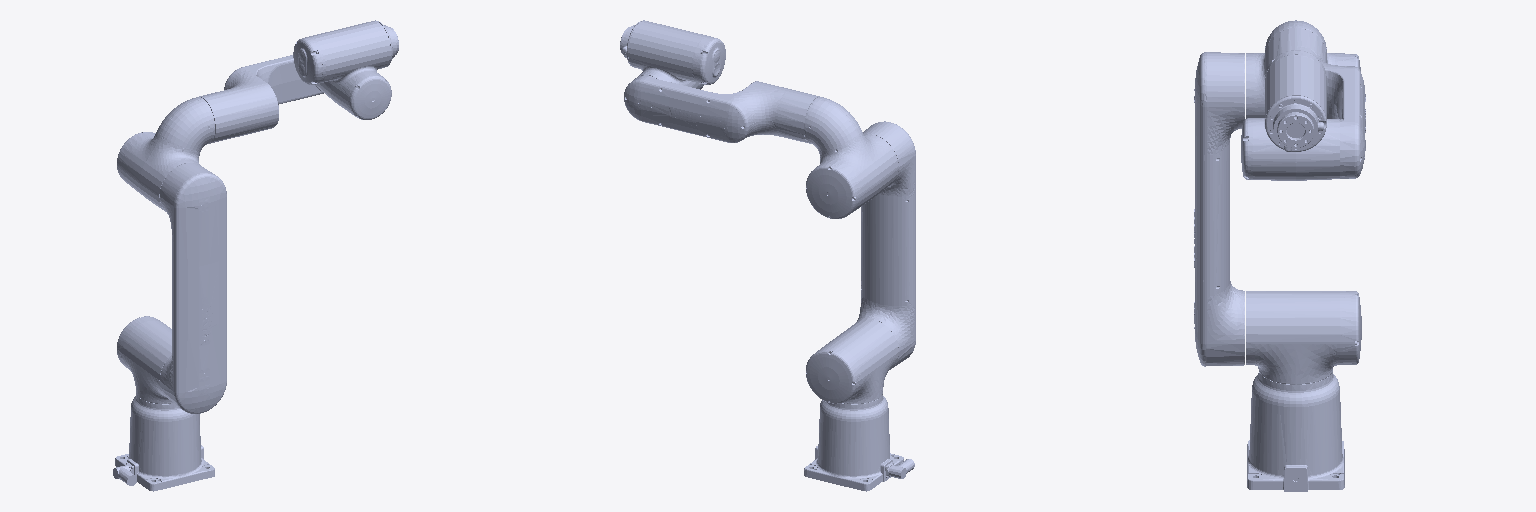
The robot description file, URDF, robot "gofa_description":
<?xml version="1.0" encoding="utf-8"?>
<!-- This URDF was automatically created by SolidWorks to URDF Exporter! Originally created by [author] ([email redacted]) 
     Commit Version: 1.6.0-1-g15f4949  Build Version: 1.6.7594.29634
     For more information, please see http://wiki.ros.org/sw_urdf_exporter -->
<robot
  name="gofa_description">
  <link
    name="base">
    <inertial>
      <origin
        xyz="-0.0012013793465437 -0.000175191786981708 0.0862146007385352"
        rpy="0 0 0" />
      <mass
        value="3.50083457958494" />
      <inertia
        ixx="0.0153015257917955"
        ixy="-6.40155032892694E-05"
        ixz="-0.000276708687772683"
        iyy="0.0159333503953857"
        iyz="-3.98029144780725E-05"
        izz="0.0112162302268266" />
    </inertial>
    <visual>
      <origin
        xyz="0 0 0"
        rpy="0 0 0" />
      <geometry>
        <mesh
          filename="package://gofa_description/meshes/base.STL" />
      </geometry>
      <material
        name="">
        <color
          rgba="0.792156862745098 0.819607843137255 0.933333333333333 1" />
      </material>
    </visual>
    <collision>
      <origin
        xyz="0 0 0"
        rpy="0 0 0" />
      <geometry>
        <mesh
          filename="package://gofa_description/meshes/base.STL" />
      </geometry>
    </collision>
  </link>
  <link
    name="L1">
    <inertial>
      <origin
        xyz="2.08682453325091E-06 0.0103608399967513 0.0705307203199506"
        rpy="0 0 0" />
      <mass
        value="2.76743491139404" />
      <inertia
        ixx="0.0115158625894577"
        ixy="6.37197693598838E-08"
        ixz="5.98954393680154E-09"
        iyy="0.006494848329231"
        iyz="-0.000196668400316843"
        izz="0.0109446835358581" />
    </inertial>
    <visual>
      <origin
        xyz="0 0 0"
        rpy="0 0 0" />
      <geometry>
        <mesh
          filename="package://gofa_description/meshes/L1.STL" />
      </geometry>
      <material
        name="">
        <color
          rgba="0.792156862745098 0.819607843137255 0.933333333333333 1" />
      </material>
    </visual>
    <collision>
      <origin
        xyz="0 0 0"
        rpy="0 0 0" />
      <geometry>
        <mesh
          filename="package://gofa_description/meshes/L1.STL" />
      </geometry>
    </collision>
  </link>
  <joint
    name="J1"
    type="continuous">
    <origin
      xyz="0 0 0.1875"
      rpy="0 0 0" />
    <parent
      link="base" />
    <child
      link="L1" />
    <axis
      xyz="0 0 1" />
  </joint>
  <link
    name="L2">
    <inertial>
      <origin
        xyz="1.34018352211628E-06 -0.0500118376116071 0.222001399322246"
        rpy="0 0 0" />
      <mass
        value="4.28904168670464" />
      <inertia
        ixx="0.130524729873898"
        ixy="1.31811857134115E-07"
        ixz="1.99022457670482E-06"
        iyy="0.133278449324229"
        iyz="-4.48622200366709E-07"
        izz="0.00669457974697178" />
    </inertial>
    <visual>
      <origin
        xyz="0 0 0"
        rpy="0 0 0" />
      <geometry>
        <mesh
          filename="package://gofa_description/meshes/L2.STL" />
      </geometry>
      <material
        name="">
        <color
          rgba="0.792156862745098 0.819607843137255 0.933333333333333 1" />
      </material>
    </visual>
    <collision>
      <origin
        xyz="0 0 0"
        rpy="0 0 0" />
      <geometry>
        <mesh
          filename="package://gofa_description/meshes/L2.STL" />
      </geometry>
    </collision>
  </link>
  <joint
    name="J2"
    type="continuous">
    <origin
      xyz="0 -0.085 0.0775"
      rpy="0 0 0" />
    <parent
      link="L1" />
    <child
      link="L2" />
    <axis
      xyz="0 1 0" />
  </joint>
  <link
    name="L3">
    <inertial>
      <origin
        xyz="0.0128129281453599 0.0944171780907046 0.0247427540642403"
        rpy="0 0 0" />
      <mass
        value="3.38333107992875" />
      <inertia
        ixx="0.0175626138728642"
        ixy="0.000364866179108744"
        ixz="-0.00318670290285352"
        iyy="0.0140230068919562"
        iyz="0.000704668055158407"
        izz="0.013275205067567" />
    </inertial>
    <visual>
      <origin
        xyz="0 0 0"
        rpy="0 0 0" />
      <geometry>
        <mesh
          filename="package://gofa_description/meshes/L3.STL" />
      </geometry>
      <material
        name="">
        <color
          rgba="0.792156862745098 0.819607843137255 0.933333333333333 1" />
      </material>
    </visual>
    <collision>
      <origin
        xyz="0 0 0"
        rpy="0 0 0" />
      <geometry>
        <mesh
          filename="package://gofa_description/meshes/L3.STL" />
      </geometry>
    </collision>
  </link>
  <joint
    name="J3"
    type="continuous">
    <origin
      xyz="0 -0.00100000000000007 0.444"
      rpy="0 0 0" />
    <parent
      link="L2" />
    <child
      link="L3" />
    <axis
      xyz="0 1 0" />
  </joint>
  <link
    name="L4">
    <inertial>
      <origin
        xyz="0.160558561602322 0.041976811408979 -2.36623354021859E-07"
        rpy="0 0 0" />
      <mass
        value="2.77857535641324" />
      <inertia
        ixx="0.00881683095901354"
        ixy="-0.010746260580237"
        ixz="1.2899930119841E-07"
        iyy="0.0340754175571832"
        iyz="3.96362791626429E-08"
        izz="0.0389358932156922" />
    </inertial>
    <visual>
      <origin
        xyz="0 0 0"
        rpy="0 0 0" />
      <geometry>
        <mesh
          filename="package://gofa_description/meshes/L4.STL" />
      </geometry>
      <material
        name="">
        <color
          rgba="0.792156862745098 0.819607843137255 0.933333333333333 1" />
      </material>
    </visual>
    <collision>
      <origin
        xyz="0 0 0"
        rpy="0 0 0" />
      <geometry>
        <mesh
          filename="package://gofa_description/meshes/L4.STL" />
      </geometry>
    </collision>
  </link>
  <joint
    name="J4"
    type="continuous">
    <origin
      xyz="0.096 0.0860000000000001 0.11"
      rpy="0 0 0" />
    <parent
      link="L3" />
    <child
      link="L4" />
    <axis
      xyz="1 0 0" />
  </joint>
  <link
    name="L5">
    <inertial>
      <origin
        xyz="-0.0147152361879962 -0.0785646469392633 0.0427558021601431"
        rpy="0 0 0" />
      <mass
        value="3.01105814739001" />
      <inertia
        ixx="0.0114597336686444"
        ixy="0.000180094704361231"
        ixz="0.00165207280226761"
        iyy="0.013561904467501"
        iyz="-0.000525272443978826"
        izz="0.0108480119549914" />
    </inertial>
    <visual>
      <origin
        xyz="0 0 0"
        rpy="0 0 0" />
      <geometry>
        <mesh
          filename="package://gofa_description/meshes/L5.STL" />
      </geometry>
      <material
        name="">
        <color
          rgba="0.792156862745098 0.819607843137255 0.933333333333333 1" />
      </material>
    </visual>
    <collision>
      <origin
        xyz="0 0 0"
        rpy="0 0 0" />
      <geometry>
        <mesh
          filename="package://gofa_description/meshes/L5.STL" />
      </geometry>
    </collision>
  </link>
  <joint
    name="J5"
    type="continuous">
    <origin
      xyz="0.374 0.0744999999999998 0"
      rpy="0 0 0" />
    <parent
      link="L4" />
    <child
      link="L5" />
    <axis
      xyz="0 1 0" />
  </joint>
  <link
    name="L6">
    <inertial>
      <origin
        xyz="0.0137506852604966 0.000239804131398652 -0.000341962798940165"
        rpy="0 0 0" />
      <mass
        value="0.146500988015653" />
      <inertia
        ixx="0.000128977630055306"
        ixy="-8.7622752508613E-08"
        ixz="1.18851551870012E-07"
        iyy="7.61118177829087E-05"
        iyz="-6.49821554399679E-07"
        izz="7.65022909768016E-05" />
    </inertial>
    <visual>
      <origin
        xyz="0 0 0"
        rpy="0 0 0" />
      <geometry>
        <mesh
          filename="package://gofa_description/meshes/L6.STL" />
      </geometry>
      <material
        name="">
        <color
          rgba="0.792156862745098 0.819607843137255 0.933333333333333 1" />
      </material>
    </visual>
    <collision>
      <origin
        xyz="0 0 0"
        rpy="0 0 0" />
      <geometry>
        <mesh
          filename="package://gofa_description/meshes/L6.STL" />
      </geometry>
    </collision>
  </link>
  <joint
    name="J6"
    type="continuous">
    <!-- <origin
      xyz="0.0679999999999995 -0.0744999999999998 0.0800000000000003"
      rpy="0.214053171554098 0 0" /> -->
      <origin
      xyz="0.0679999999999995 -0.0744999999999998 0.0800000000000003"
      rpy="0 0 0" />
    <parent
      link="L5" />
    <child
      link="L6" />
    <axis
      xyz="1 0 0" />
  </joint>
  <link
    name="tool0">
  </link>
  <joint
    name="L6_to_tool0"
    type="fixed">
      <origin
      xyz="0.0326 0 0"
      rpy="0 0 0" />
    <parent
      link="L6" />
    <child
      link="tool0" />
  </joint>
</robot>

--- What the picture shows (computed from the rendered views, not written in the file) ---
3 views of the same robot in one strip: view 1: azimuth 30°, elevation 25°; view 2: azimuth 150°, elevation 25°; view 3: azimuth 270°, elevation 25° (orthographic).
Model gofa_description with 8 links and 7 joints (6 continuous, 1 fixed), rooted at base, posed every joint at zero.
Links seen in each view (by area): view 1: L2, L5, base, L3, L4, L1; view 2: L2, L4, L3, base, L1, L5; view 3: L2, base, L1, L5, L4, L6, L3.
Boxes of the visible links, left/top/right/bottom form: L2: left=160, top=163, right=226, bottom=413; L5: left=293, top=21, right=391, bottom=119; base: left=113, top=394, right=214, bottom=491; L3: left=117, top=97, right=214, bottom=211; L4: left=199, top=55, right=323, bottom=143; L1: left=117, top=316, right=173, bottom=403; L2: left=857, top=121, right=915, bottom=367; L4: left=624, top=75, right=819, bottom=143; L3: left=804, top=97, right=898, bottom=218; base: left=804, top=395, right=914, bottom=491; L1: left=806, top=319, right=898, bottom=403; L5: left=628, top=21, right=725, bottom=89; L2: left=1194, top=52, right=1244, bottom=366; base: left=1247, top=372, right=1344, bottom=491; L1: left=1246, top=291, right=1361, bottom=384; L5: left=1241, top=50, right=1339, bottom=180; L4: left=1265, top=28, right=1365, bottom=178; L6: left=1265, top=96, right=1326, bottom=151; L3: left=1246, top=20, right=1360, bottom=118.
Size in the robot's own frame: 0.6961 by 0.2902 by 0.9517 metres.
Meshes: 7 distinct files referenced, 7 mesh visuals loaded (7 binary STL).
